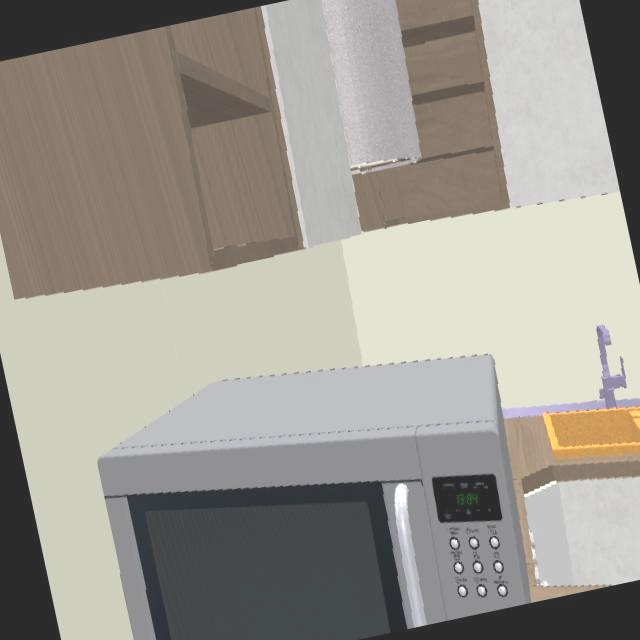countertop: (504, 416, 640, 494)
microwave: (98, 355, 533, 640)
shelf: (0, 6, 304, 299), (354, 0, 509, 229)
sink: (542, 406, 640, 461)
